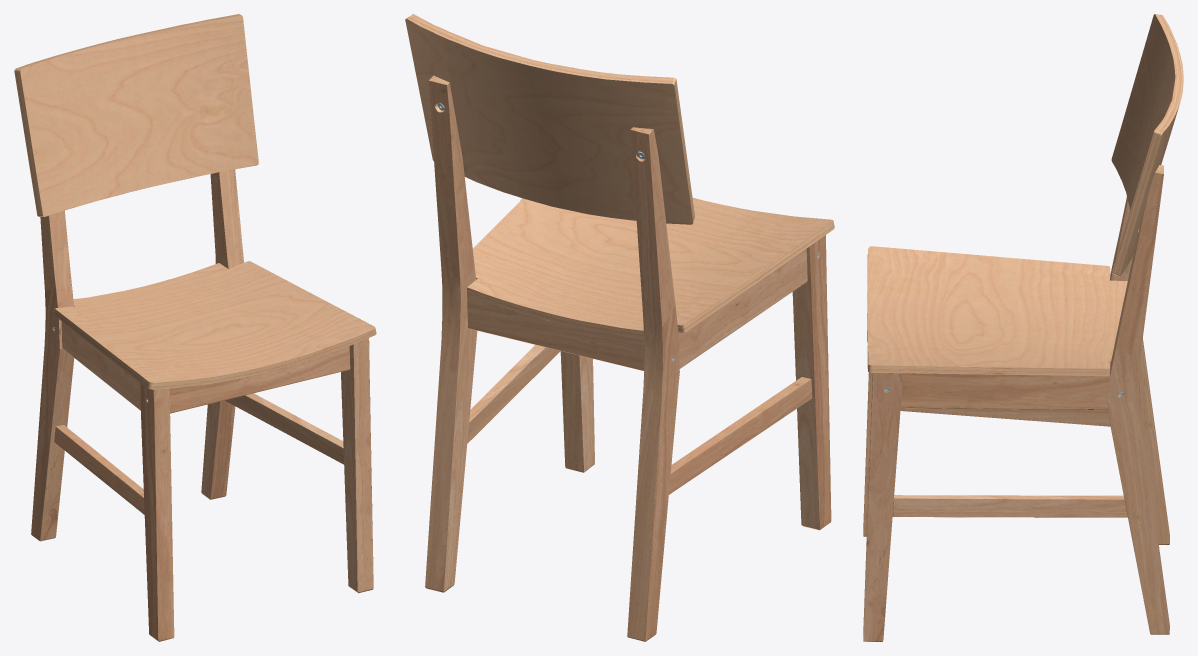
3 views of the same model, side by side, from view 1: azimuth 30°, elevation 25°; view 2: azimuth 150°, elevation 25°; view 3: azimuth 270°, elevation 25° (orthographic). The views are drawn at different scales.
Parts seen in each view (by area): view 1: ASY_ART_00611251_S01_NV01; view 2: ASY_ART_00611251_S01_NV01; view 3: ASY_ART_00611251_S01_NV01.
Boxes of the visible parts, box(x1,y1,x2,y2) form: ASY_ART_00611251_S01_NV01: box(14, 14, 376, 641); ASY_ART_00611251_S01_NV01: box(405, 14, 834, 641); ASY_ART_00611251_S01_NV01: box(863, 14, 1183, 641).
Size of the model in its own units: 0.4288 by 0.854 by 0.4828.
Materials: 1 (1 with a texture image).
